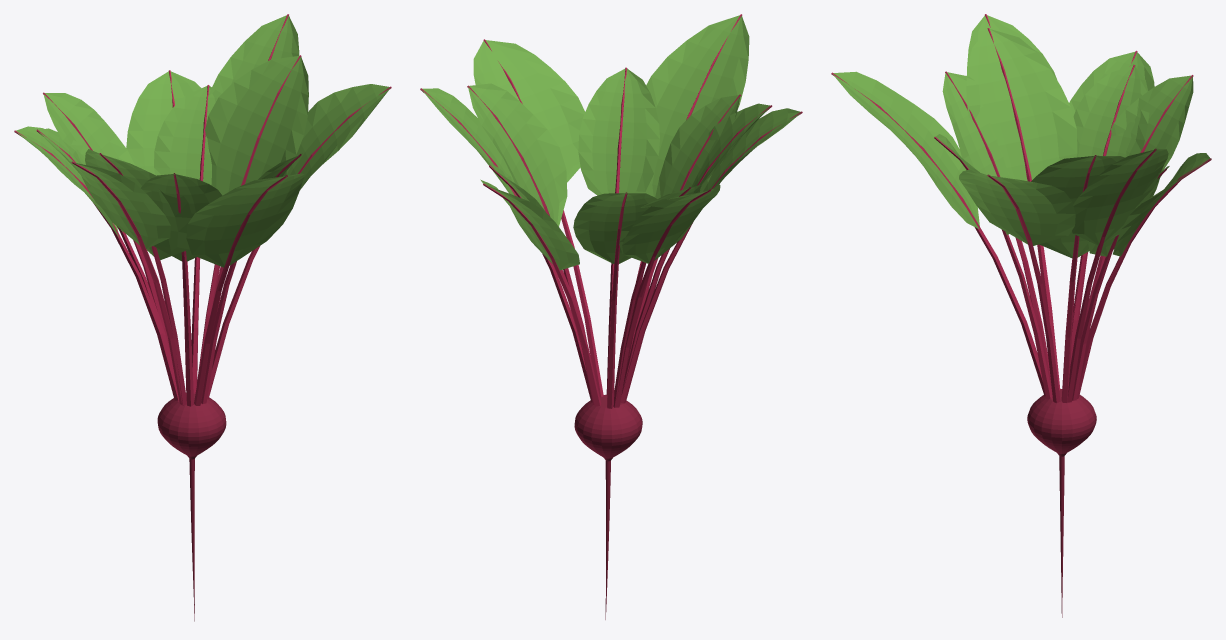
The model's file is beetroot_harvest_v22.glb.
The picture shows the model from 3 angles, left to right: view 1: azimuth 30°, elevation 25°; view 2: azimuth 150°, elevation 25°; view 3: azimuth 270°, elevation 25°; orthographic projection.
Visible parts, largest first — view 1: plant; view 2: plant; view 3: plant.
Part boxes in pixels (x1,y1,x2,y2): plant: (14, 14, 391, 621); plant: (420, 14, 802, 619); plant: (831, 14, 1211, 617).
Bounding box in the file's own units: 0.29 × 0.4689 × 0.2963.
1 material, 1 textured.
